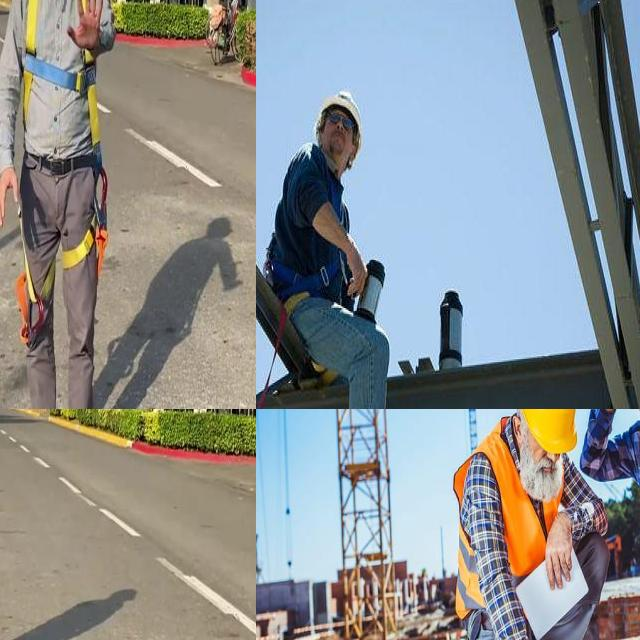Harness: (24, 0, 109, 276)
No_Ear-Protection: (512, 416, 522, 448)
face_nomask: (519, 434, 563, 503)
hand_noglove: (545, 511, 573, 589)
head_helmet: (520, 409, 576, 453)
